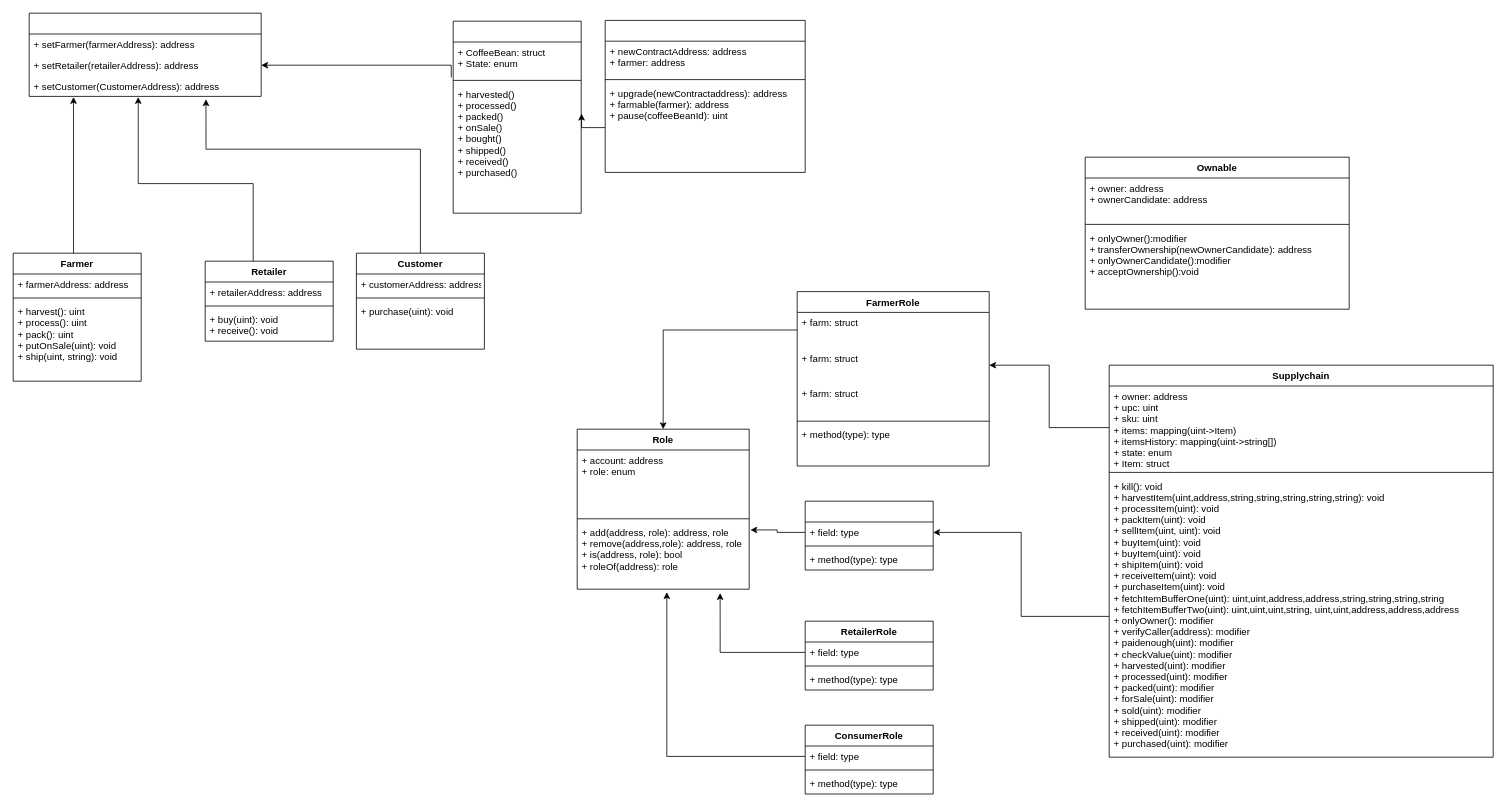
The diagram is 1506 pixels wide and 807 high, and some of its shapes have lost their labels. The shapes that lost their labels are listed below. From the top down, each one's box as (x1, y1, x2, y2) in pixels, then its label:
(28, 12, 261, 96): Access Control
(604, 20, 805, 172): Core
(452, 20, 581, 213): Base
(804, 500, 933, 570): DistributorRole
